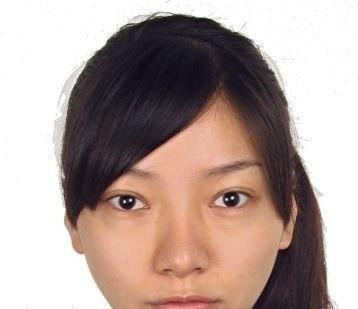unmask: (81, 163, 286, 309)
